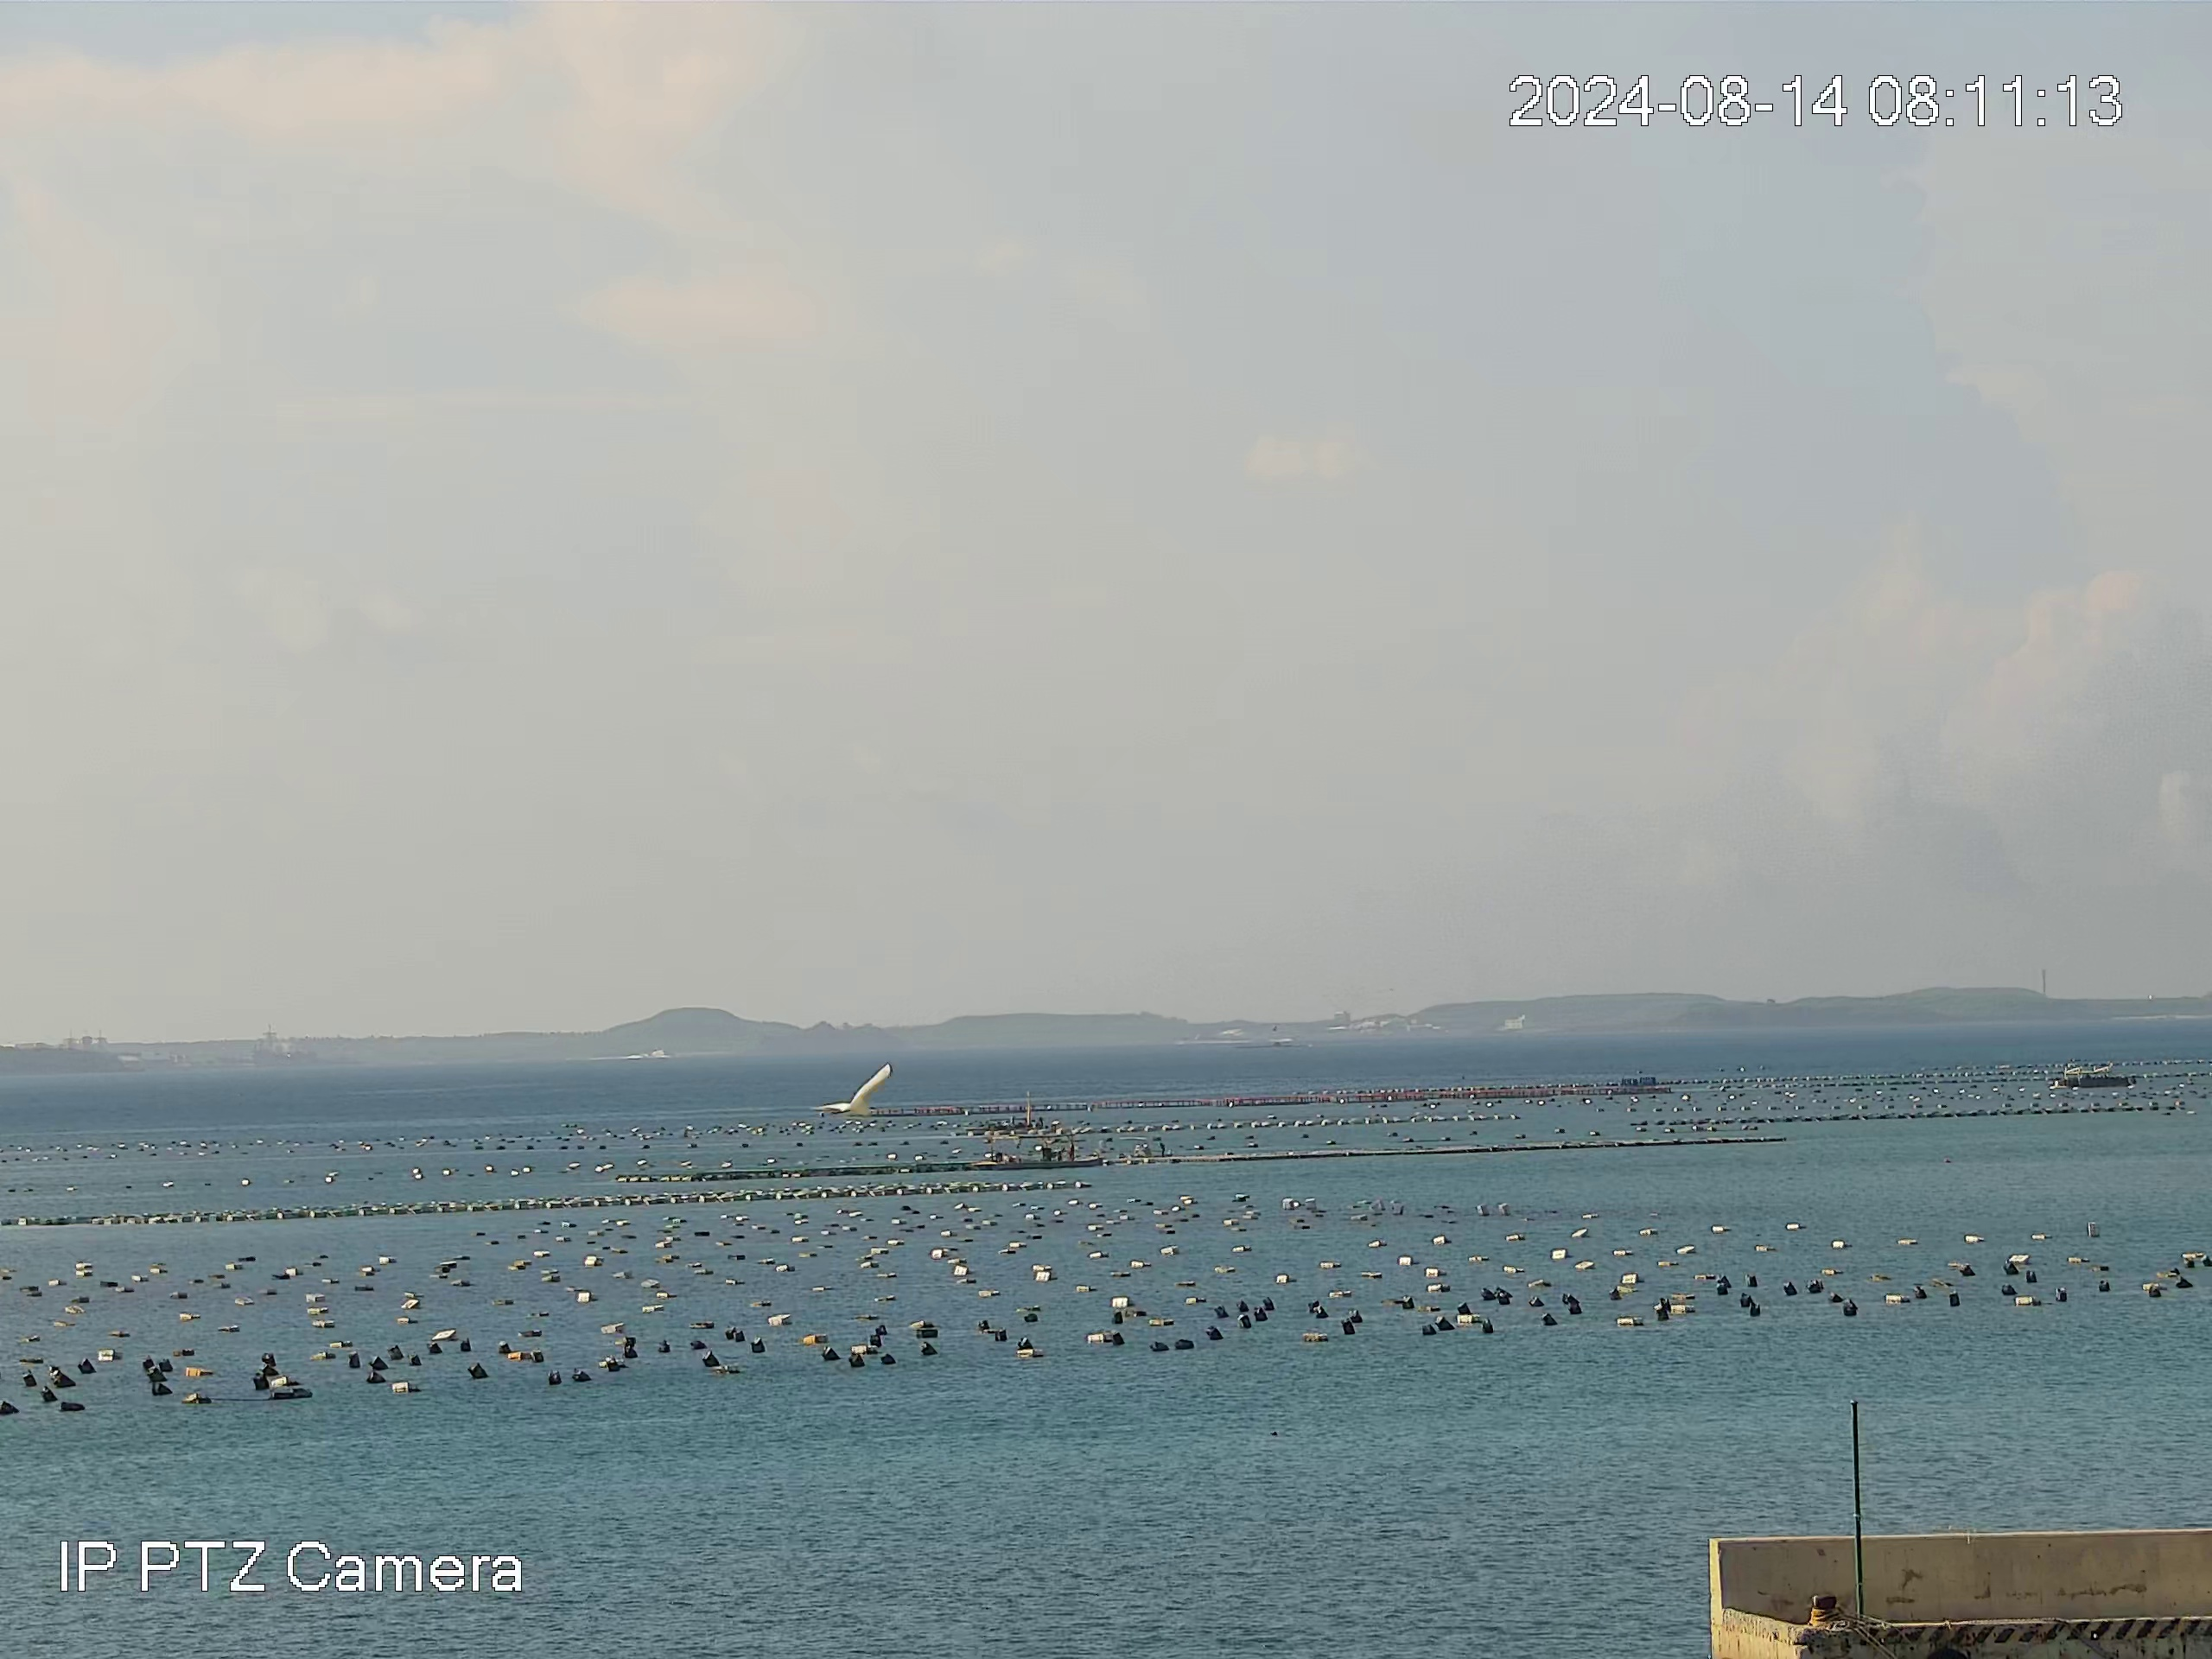boat: (979, 1127, 1096, 1168), (2052, 1053, 2144, 1096)
